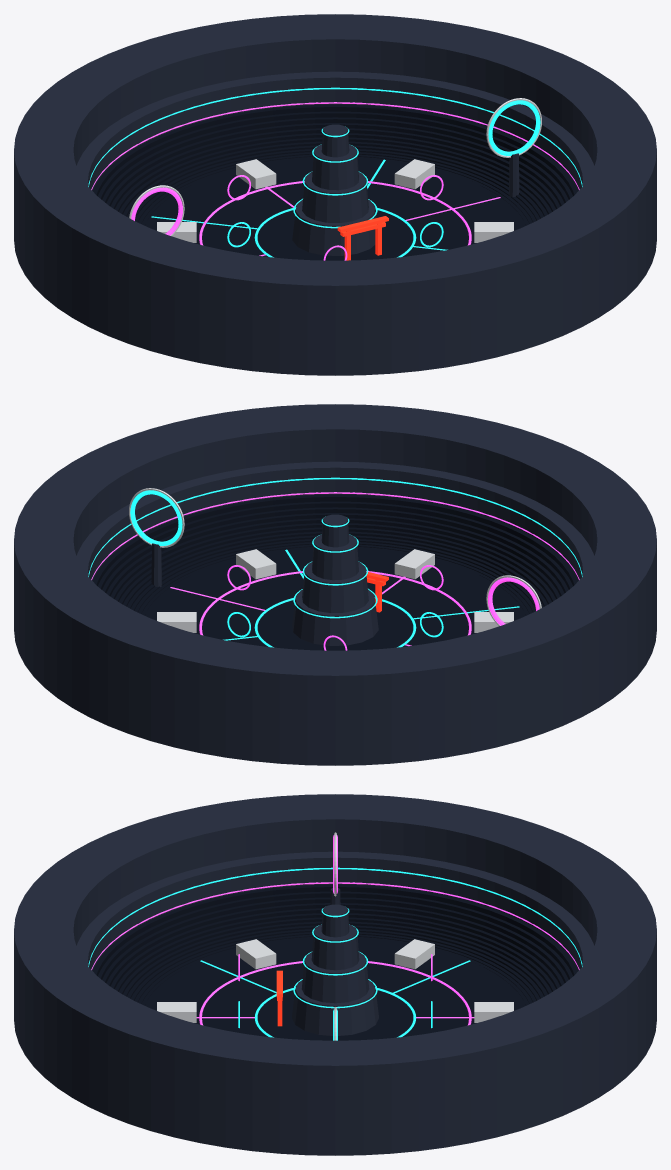
File: shaddai_hover_arena_v01.glb
3 renders of one model, top to bottom at view 1: azimuth 30°, elevation 25°; view 2: azimuth 150°, elevation 25°; view 3: azimuth 270°, elevation 25°, orthographic.
Visible parts, largest first — view 1: hover_arena; view 2: hover_arena; view 3: hover_arena.
Boxes of the visible parts, box(x1,y1,x2,y2) form: hover_arena: box(14, 14, 656, 375); hover_arena: box(14, 404, 656, 765); hover_arena: box(14, 794, 656, 1155).
Size of the model in its own units: 162 by 31.6 by 162.
